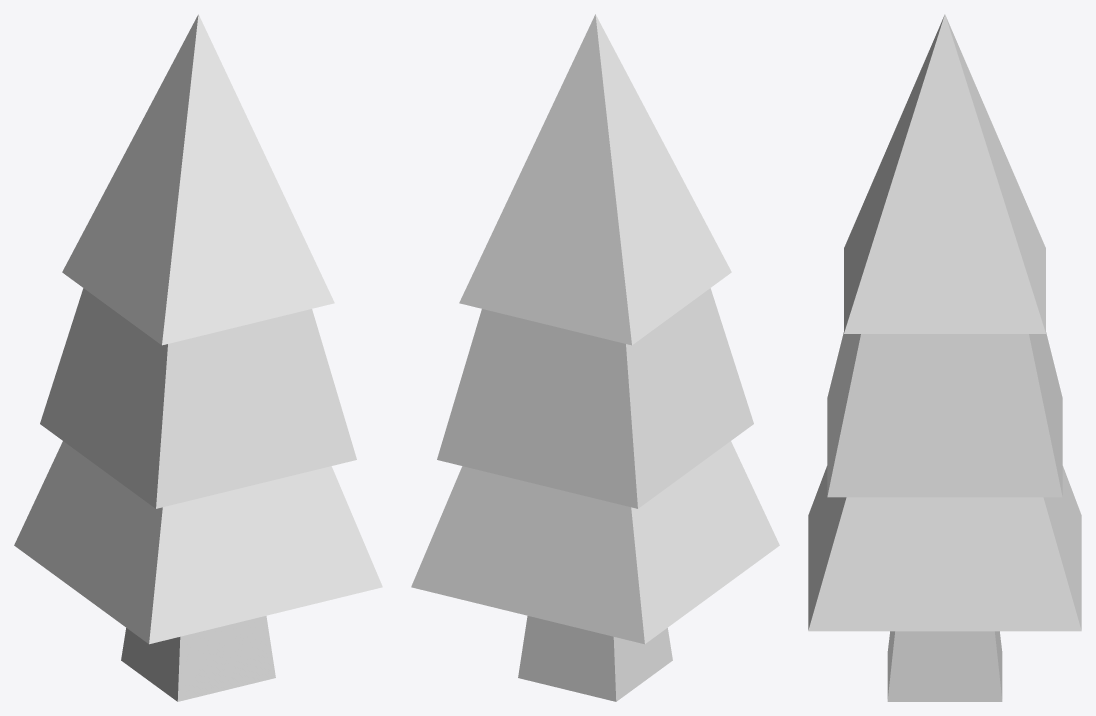
File: foo.obj
3 renders of one model, left to right at view 1: azimuth 30°, elevation 25°; view 2: azimuth 150°, elevation 25°; view 3: azimuth 270°, elevation 25°, orthographic.
Visible parts, largest first — view 1: Mesh1 Tree Model; view 2: Mesh1 Tree Model; view 3: Mesh1 Tree Model.
Part boxes in pixels (x1,y1,x2,y2): Mesh1 Tree Model: (14,14,382,701); Mesh1 Tree Model: (411,14,779,701); Mesh1 Tree Model: (808,14,1081,701).
Bounding box in the file's own units: 1.18 × 3.16 × 1.18.
2 materials, 2 textured.
